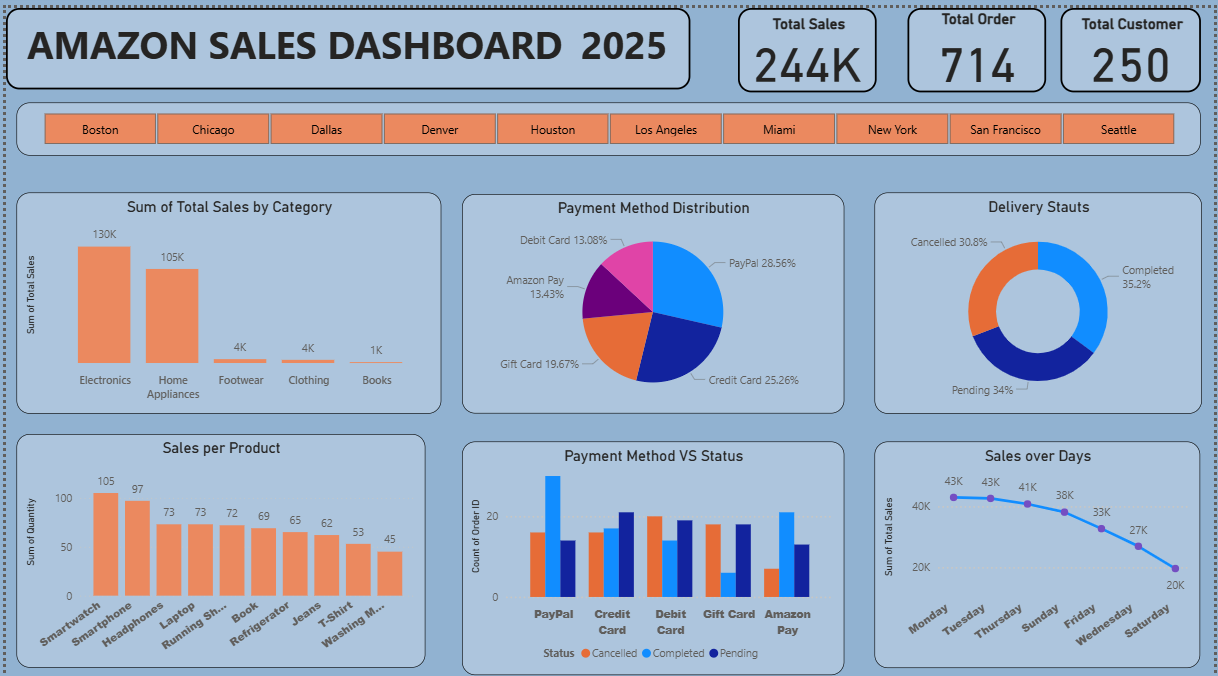

The page's visual inventory and layout, read from the dashboard file:
{"tool":"powerbi","page":{"name":"Sales Dashborad","canvas":[1366,768],"ordinal":0},"visuals":[{"type":"textbox","box":[0,0,773.3,91.7],"z":0},{"type":"card","title":"Total Sales","fields":{"Values":["Sum(amazon_sales_data 2025 (1).Total Sales)"]},"box":[826.7,0,156.7,95],"z":1000},{"type":"card","title":"Total Order","fields":{"Values":["Sum(amazon_sales_data 2025 (1).Quantity)"]},"box":[1018.3,0,156.7,95],"z":2000},{"type":"columnChart","fields":{"Y":["Sum(amazon_sales_data 2025 (1).Total Sales)"],"Category":["amazon_sales_data 2025 (1).Category"]},"box":[12,208,480,250],"z":3000},{"type":"pieChart","title":"Payment Method Distribution","fields":{"Y":["Sum(amazon_sales_data 2025 (1).Total Sales)"],"Category":["amazon_sales_data 2025 (1).Payment Method"]},"box":[516,210,432,248],"z":4000},{"type":"donutChart","title":"Delivery Stauts","fields":{"Category":["amazon_sales_data 2025 (1).Status"],"Y":["CountNonNull(amazon_sales_data 2025 (1).Total Sales)"]},"box":[982,208,370,250],"z":5000},{"type":"columnChart","title":"Sales per Product","fields":{"Category":["amazon_sales_data 2025 (1).Product"],"Y":["Sum(amazon_sales_data 2025 (1).Quantity)"]},"box":[12,482,462,264],"z":6000},{"type":"lineChart","title":"Sales over Days","fields":{"Y":["Sum(amazon_sales_data 2025 (1).Total Sales)"],"Category":["amazon_sales_data 2025 (1).Day Name"]},"box":[982,490,368,256],"z":7000},{"type":"clusteredColumnChart","title":"Payment Method VS Status","fields":{"Category":["amazon_sales_data 2025 (1).Payment Method"],"Y":["CountNonNull(amazon_sales_data 2025 (1).Order ID)"],"Series":["amazon_sales_data 2025 (1).Status"]},"box":[516,490,432,264],"z":8000},{"type":"card","title":"Total Customer","fields":{"Values":["CountNonNull(amazon_sales_data 2025 (1).Product)"]},"box":[1191.7,0,158.3,95],"z":9000},{"type":"slicer","title":"Months","fields":{"Values":["amazon_sales_data 2025 (1).Customer Location"]},"box":[12,106,1338,60],"z":10000}]}

Visuals, with their boxes in screenshot pixels (x1, y1, x2, y2), scaled from the page's 1366x768 canvas onto the 1218x676 screenshot:
textbox: 0 0 690 81
"Total Sales" card: 737 0 877 84
"Total Order" card: 908 0 1048 84
columnChart - Sum(amazon_sales_data 2025 (1).Total Sales) x amazon_sales_data 2025 (1).Category: 11 183 439 403
"Payment Method Distribution" pieChart: 460 185 845 403
"Delivery Stauts" donutChart: 876 183 1206 403
"Sales per Product" columnChart: 11 424 423 657
"Sales over Days" lineChart: 876 431 1204 657
"Payment Method VS Status" clusteredColumnChart: 460 431 845 664
"Total Customer" card: 1063 0 1204 84
"Months" slicer: 11 93 1204 146
